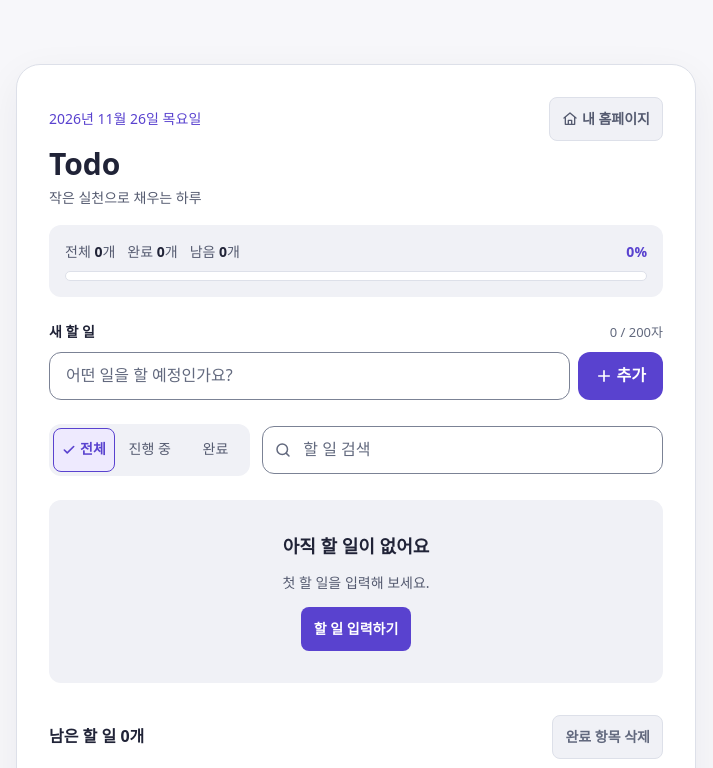
TodoList 앱 통합 테스트 › localStorage 쓰기 실패 시 앱은 계속 동작하고 저장 실패 안내를 표시한다
This screenshot has width=713, height=768.
In the field labelled "새 할 일": (309,376) x1=49 y1=352 x2=570 y2=400, type "임시 할 일"
Then press Enter
(page scrolled)
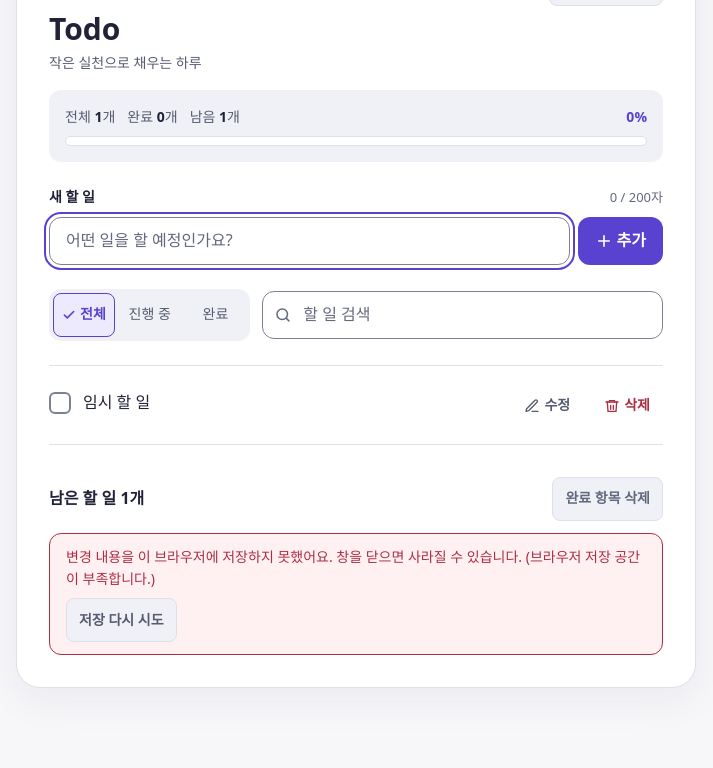
Result: the text "임시 할 일" is shown at x1=83 y1=391 x2=150 y2=413
Result: the text "변경 내용을 이 브라우저에 저장하지 못했어요" is shown at x1=66 y1=547 x2=522 y2=566
Click the button "저장 다시 시도": (121,620) x1=66 y1=598 x2=177 y2=642
(page scrolled)
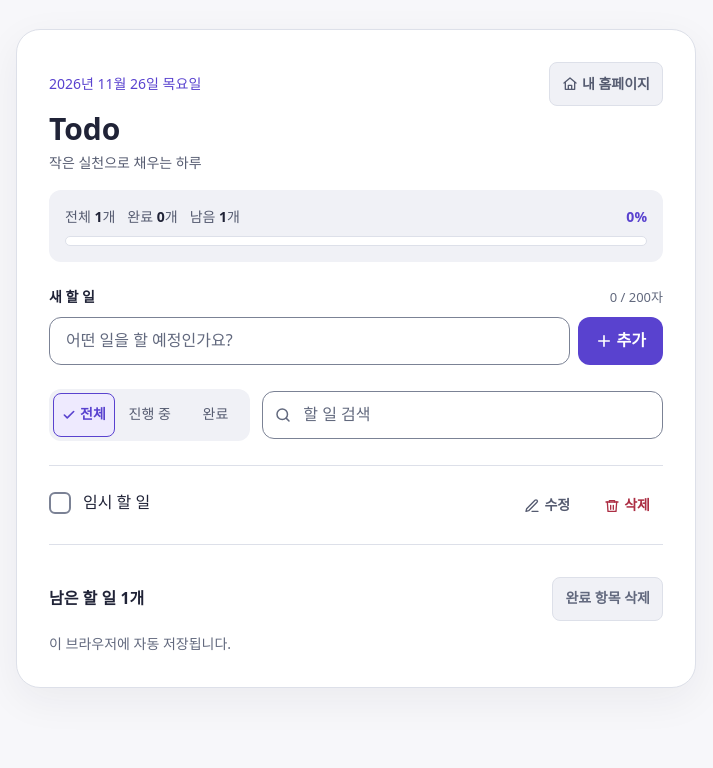
Result: the text "이 브라우저에 자동 저장됩니다." is shown at x1=49 y1=634 x2=231 y2=653
